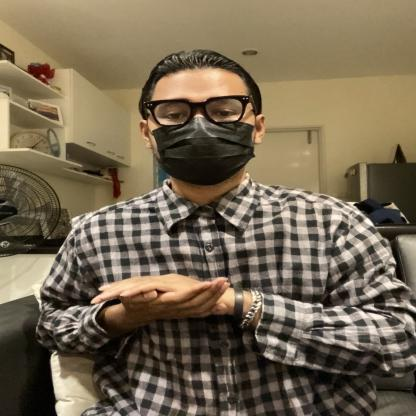Love: (52, 247, 294, 342)
